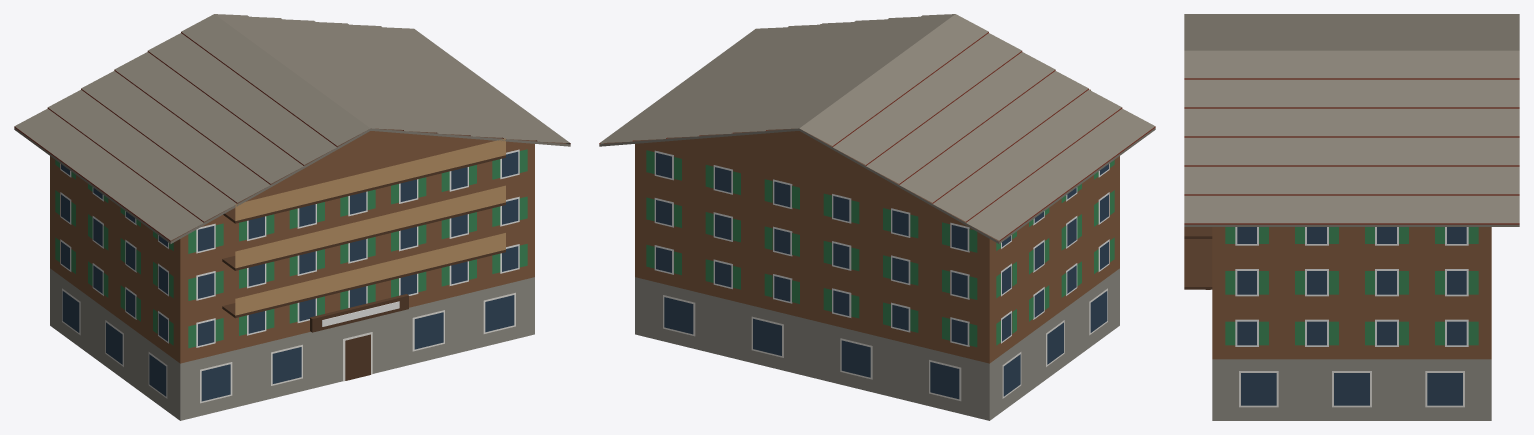
Rendered from auberge_montagne.glb.
3 renders of one model, left to right at view 1: azimuth 30°, elevation 25°; view 2: azimuth 150°, elevation 25°; view 3: azimuth 270°, elevation 25°, orthographic. The views are drawn at different scales.
Parts seen in each view (by area): view 1: auberge_montagne; view 2: auberge_montagne; view 3: auberge_montagne.
Boxes of the visible parts, x1,y1,x2,y2 form: auberge_montagne: (14,14,570,420); auberge_montagne: (599,14,1155,420); auberge_montagne: (1184,14,1519,420).
Size of the model in its own units: 24.8 by 15.34 by 16.8.
1 material, 1 textured.
